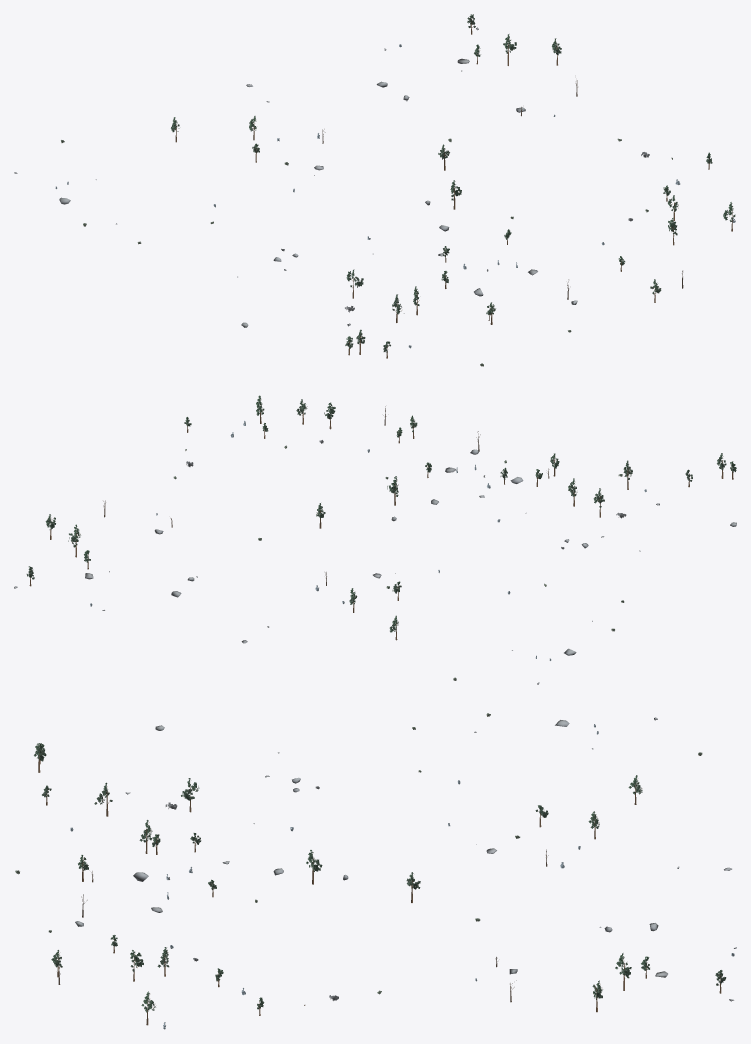
Rendered from frost_land_scatter_c13_11.glb.
3 renders of one model, top to bottom at view 1: azimuth 30°, elevation 25°; view 2: azimuth 150°, elevation 25°; view 3: azimuth 270°, elevation 25°, orthographic. The views are drawn at different scales.
Parts seen in each view (by area): view 1: frost_land_scatter_c13_11; view 2: frost_land_scatter_c13_11; view 3: frost_land_scatter_c13_11.
Part boxes in pixels (x1=…): frost_land_scatter_c13_11: x1=14, y1=14, x2=735, y2=366; frost_land_scatter_c13_11: x1=14, y1=395, x2=736, y2=684; frost_land_scatter_c13_11: x1=15, y1=713, x2=736, y2=1029.
Size of the model in its own units: 252 by 33.12 by 255.
